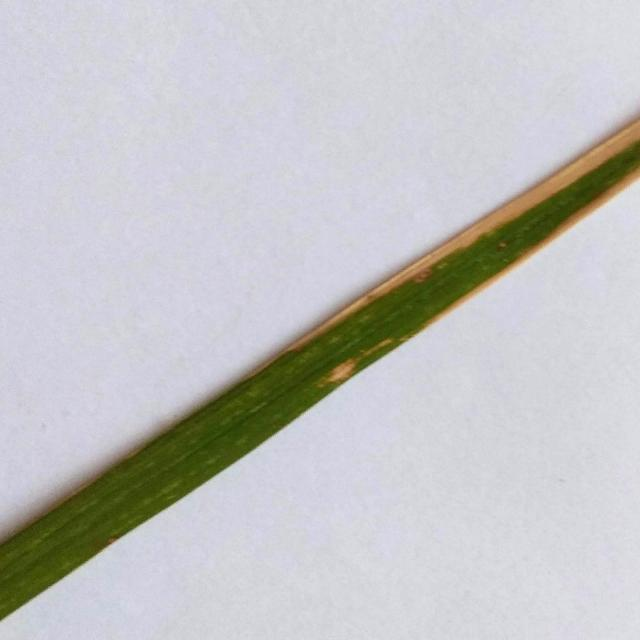Leaf blast: (0, 103, 640, 634)
